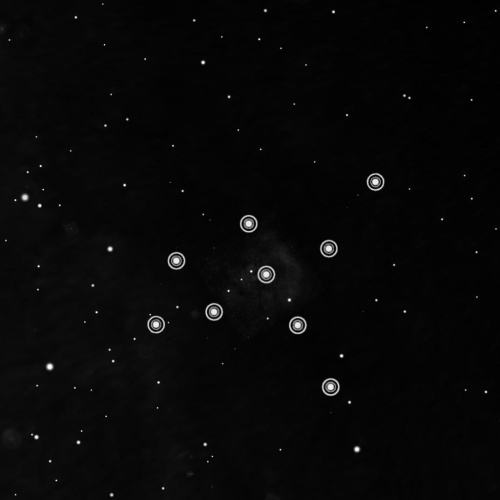cygnus: (141, 168, 388, 400)
